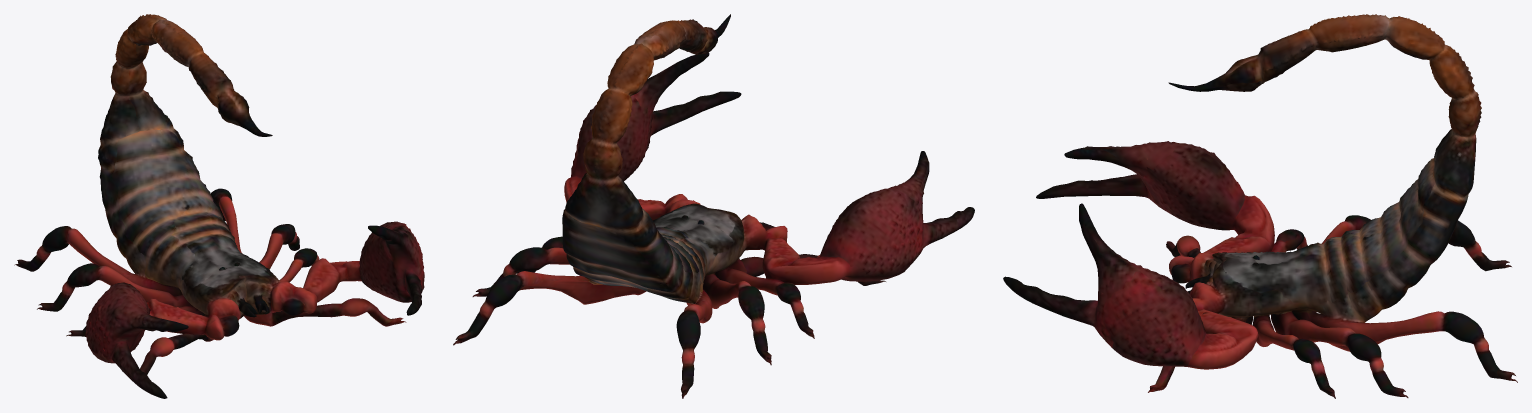
The model's file is MZ4250 - Scorpion.glb.
3 views of the same model, side by side, from view 1: azimuth 30°, elevation 25°; view 2: azimuth 150°, elevation 25°; view 3: azimuth 270°, elevation 25° (orthographic). The views are drawn at different scales.
Parts seen in each view (by area): view 1: Lowpoly scorpion.002; view 2: Lowpoly scorpion.002; view 3: Lowpoly scorpion.002.
Boxes of the visible parts, x1=… form: Lowpoly scorpion.002: x1=14, y1=14, x2=424, y2=398; Lowpoly scorpion.002: x1=453, y1=14, x2=974, y2=398; Lowpoly scorpion.002: x1=1003, y1=14, x2=1517, y2=398.
Size of the model in its own units: 0.3589 by 0.294 by 0.4444.
1 material, 1 textured.
